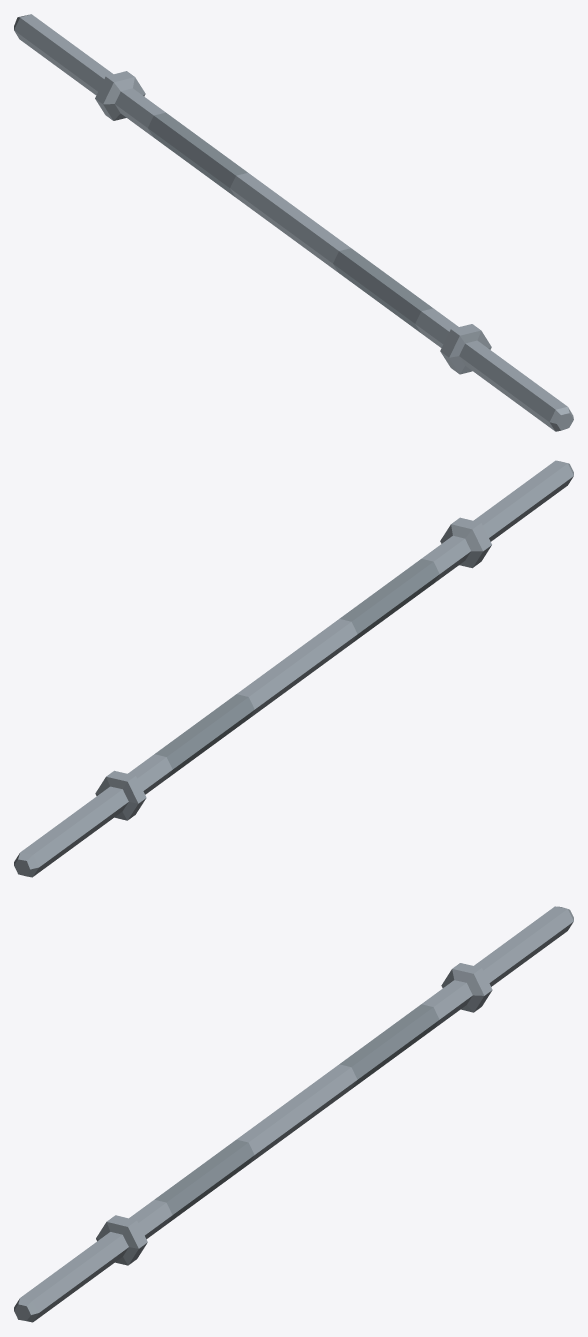
File: SM_Prop_Bar_Bell_01.glb
3 views of the same model, one above another, from view 1: azimuth 30°, elevation 25°; view 2: azimuth 150°, elevation 25°; view 3: azimuth 330°, elevation 25° (orthographic).
Parts seen in each view (by area): view 1: SM_Prop_Bar_Bell_01; view 2: SM_Prop_Bar_Bell_01; view 3: SM_Prop_Bar_Bell_01.
Boxes of the visible parts, x1,y1,x2,y2 form: SM_Prop_Bar_Bell_01: (14, 14, 573, 431); SM_Prop_Bar_Bell_01: (14, 460, 573, 877); SM_Prop_Bar_Bell_01: (14, 906, 573, 1322).
Size of the model in its own units: 0.0842 by 0.0729 by 1.85.
1 material, 1 textured.
